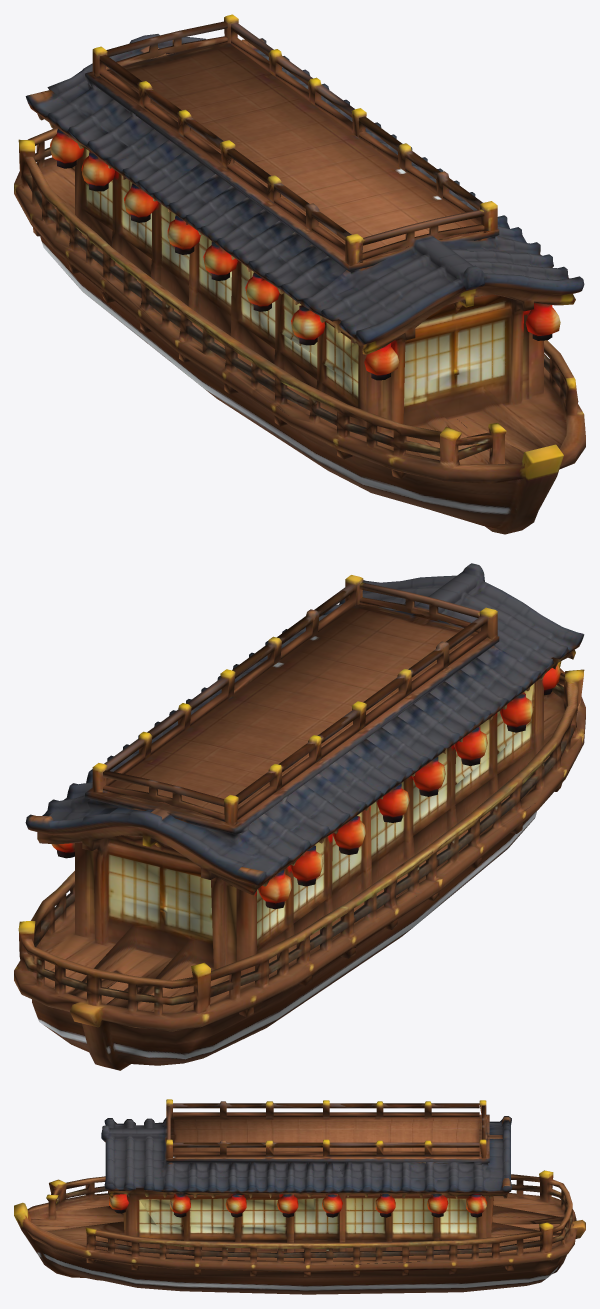
The model's file is yakatabune.glb.
3 renders of one model, top to bottom at view 1: azimuth 30°, elevation 25°; view 2: azimuth 150°, elevation 25°; view 3: azimuth 270°, elevation 25°, orthographic. The views are drawn at different scales.
Parts seen in each view (by area): view 1: tripo_node_3e7fb852-a7cd-4929-b2db-d972e60494ea; view 2: tripo_node_3e7fb852-a7cd-4929-b2db-d972e60494ea; view 3: tripo_node_3e7fb852-a7cd-4929-b2db-d972e60494ea.
Boxes of the visible parts, x1,y1,x2,y2 form: tripo_node_3e7fb852-a7cd-4929-b2db-d972e60494ea: (14, 14, 585, 534); tripo_node_3e7fb852-a7cd-4929-b2db-d972e60494ea: (14, 563, 585, 1070); tripo_node_3e7fb852-a7cd-4929-b2db-d972e60494ea: (14, 1099, 585, 1294).
Size of the model in its own units: 0.3201 by 0.2932 by 0.9794.
1 material, 1 textured.
